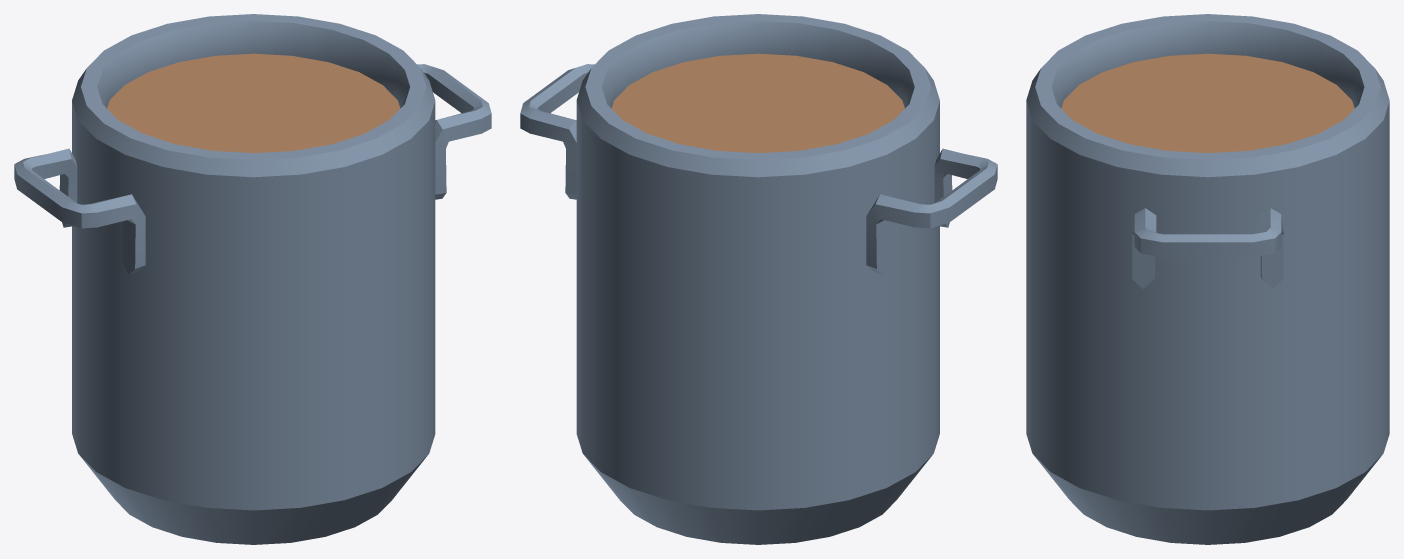
The model's file is Pot 2 Filled.glb.
The picture shows the model from 3 angles, left to right: view 1: azimuth 30°, elevation 25°; view 2: azimuth 150°, elevation 25°; view 3: azimuth 270°, elevation 25°; orthographic projection.
Visible parts, largest first — view 1: Environment_Pot_2_Filled; view 2: Environment_Pot_2_Filled; view 3: Environment_Pot_2_Filled.
Part boxes in pixels (<box>): Environment_Pot_2_Filled: <box>14,14,491,544</box>; Environment_Pot_2_Filled: <box>520,14,997,544</box>; Environment_Pot_2_Filled: <box>1026,14,1389,544</box>.
Size of the model in its own units: 1.4 by 1.25 by 1.04.
Materials: 1 (1 with a texture image).
